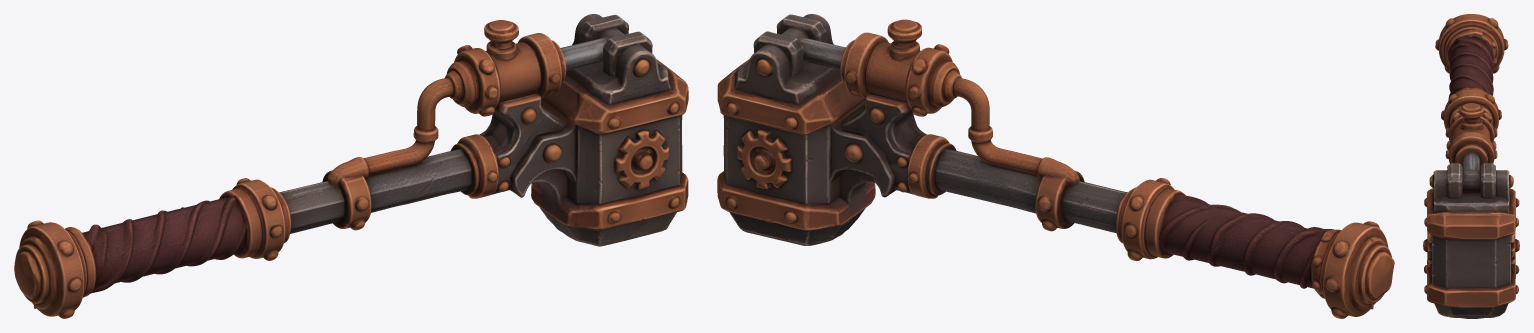
File: hammer.glb
The picture shows the model from 3 angles, left to right: view 1: azimuth 30°, elevation 25°; view 2: azimuth 150°, elevation 25°; view 3: azimuth 270°, elevation 25°; orthographic projection. The views are drawn at different scales.
Visible parts, largest first — view 1: tripo_node_37033398-a8eb-496b-a90b-a70b1b1bd672; view 2: tripo_node_37033398-a8eb-496b-a90b-a70b1b1bd672; view 3: tripo_node_37033398-a8eb-496b-a90b-a70b1b1bd672.
Part boxes in pixels (left/top/right/bottom): tripo_node_37033398-a8eb-496b-a90b-a70b1b1bd672: left=14, top=14, right=688, bottom=318; tripo_node_37033398-a8eb-496b-a90b-a70b1b1bd672: left=717, top=14, right=1394, bottom=318; tripo_node_37033398-a8eb-496b-a90b-a70b1b1bd672: left=1423, top=14, right=1519, bottom=318.
Size of the model in its own units: 1 by 0.3371 by 0.1823.
Materials: 1 (1 with a texture image).
